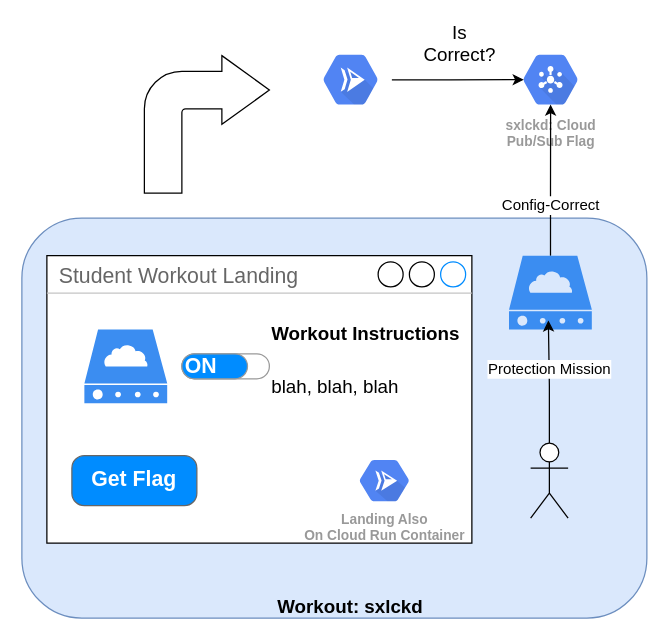
Image size: 669x641. Some labels were removed from this diagram. Here are the shapes that lost their labels. From the top down, the box of each, then its label:
(309, 42, 391, 116): Flag Checker Provides Flag When The Workout Pub/Sub Topic shows correct
(143, 54, 269, 193): Check for flag When workout is finished
(529, 442, 568, 518): Student
